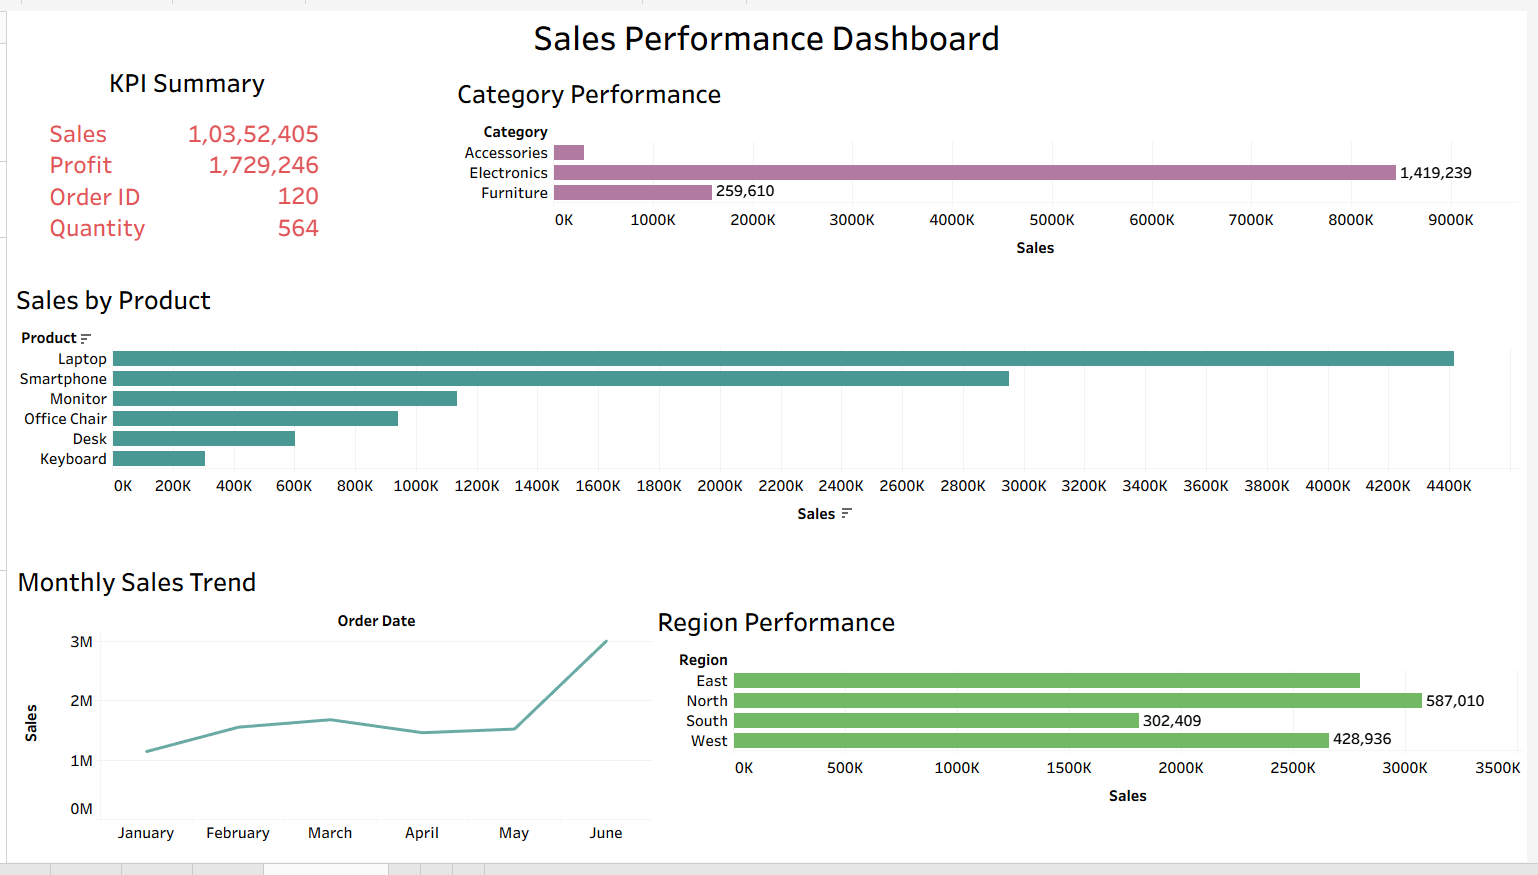

The dashboard page shown, as its layout file describes it:
{"tool":"tableau","page":{"name":"Dashboard 1","canvas":[1520,860],"ordinal":0},"visuals":[{"type":"title","box":[8,8,1504,53]},{"type":"text","box":[98,63,164,35]},{"type":"worksheet","title":"Sheet 4","mark":"Automatic","rows":["category"],"cols":["sales"],"box":[446,70,1065,229]},{"type":"text","box":[39,115,103,128]},{"type":"worksheet","title":"Sheet 1","mark":"Automatic","box":[176,115,175,142]},{"type":"worksheet","title":"Sheet 2","mark":"Automatic","rows":["product"],"cols":["sales"],"box":[5,276,1509,284]},{"type":"worksheet","title":"Sheet 3","mark":"Automatic","rows":["sales"],"cols":["order_date"],"box":[6,558,639,284]},{"type":"worksheet","title":"Sheet 5","mark":"Automatic","rows":["region"],"cols":["sales"],"box":[646,598,870,229]}]}

Visuals, with their boxes in screenshot pixels (x1, y1, x2, y2), scaled from the page's 1520x860 canvas onto the 1538x875 screenshot:
title: <box>8,8,1530,62</box>
text: <box>99,64,265,100</box>
"Sheet 4" worksheet: <box>451,71,1529,304</box>
text: <box>39,117,144,247</box>
"Sheet 1" worksheet: <box>178,117,355,261</box>
"Sheet 2" worksheet: <box>5,281,1532,570</box>
"Sheet 3" worksheet: <box>6,568,653,857</box>
"Sheet 5" worksheet: <box>654,608,1534,841</box>
